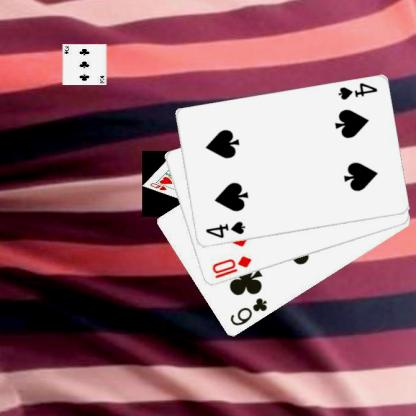10D: (209, 253, 253, 280)
4S: (202, 219, 246, 240), (335, 80, 379, 101)
6C: (226, 295, 269, 328)
